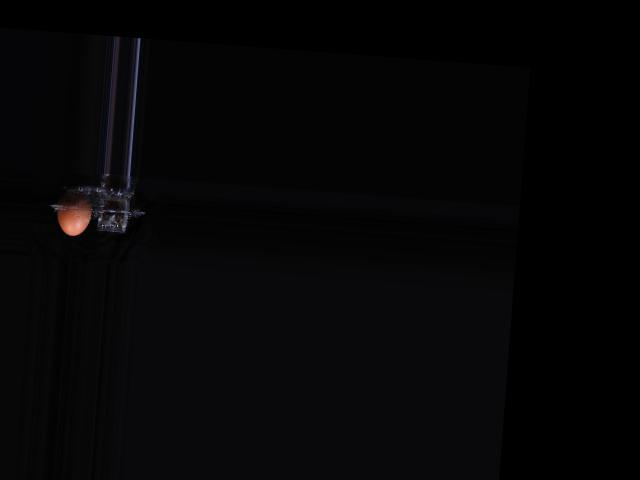egg: (54, 189, 92, 236)
